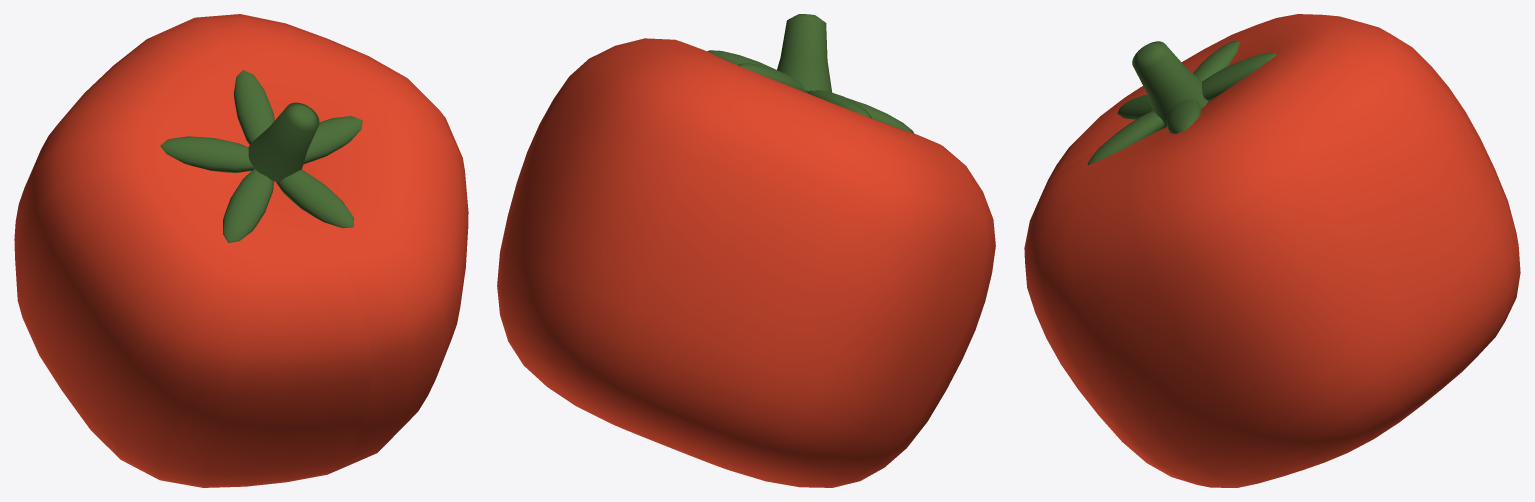
File: tomato.glb
The picture shows the model from 3 angles, left to right: view 1: azimuth 30°, elevation 25°; view 2: azimuth 150°, elevation 25°; view 3: azimuth 270°, elevation 25°; orthographic projection. The views are drawn at different scales.
Visible parts, largest first — view 1: tomato; view 2: tomato; view 3: tomato.
Part boxes in pixels (x1,y1,x2,y2): tomato: (14,14,468,487); tomato: (497,14,995,487); tomato: (1024,14,1520,487).
Bounding box in the file's own units: 0.851 × 0.837 × 0.8855.
